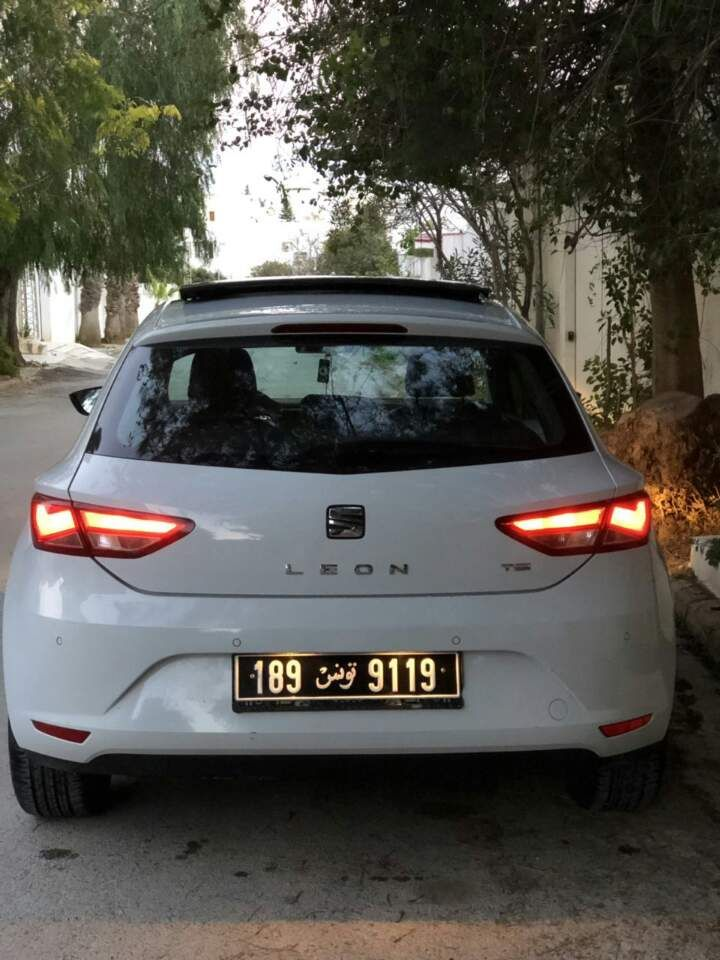LP: (231, 650, 464, 701)
